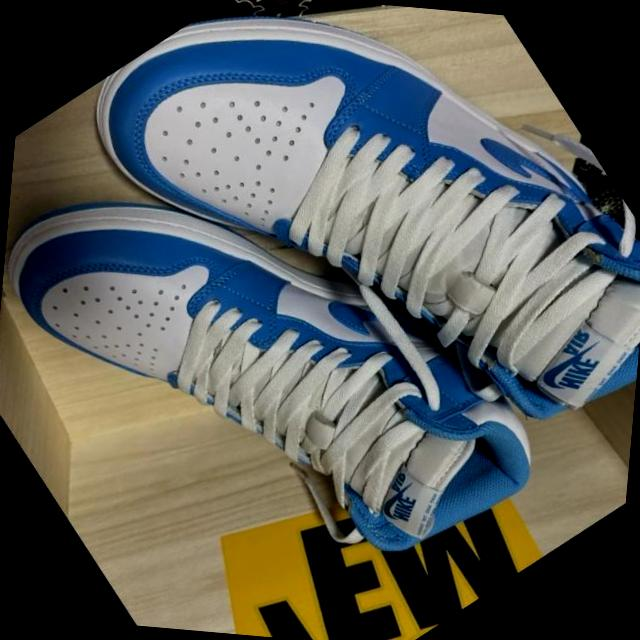nike_original_jordan: (0, 29, 585, 640), (36, 0, 640, 569)
